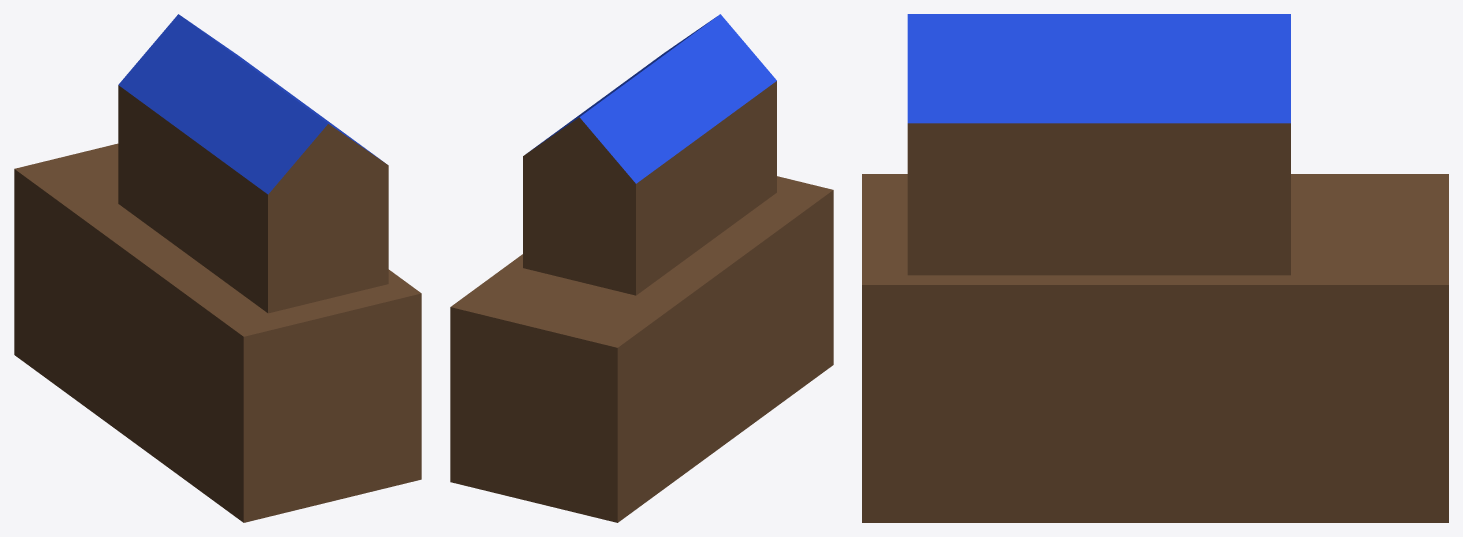
File: houseBig.fbx
3 views of the same model, side by side, from view 1: azimuth 30°, elevation 25°; view 2: azimuth 150°, elevation 25°; view 3: azimuth 270°, elevation 25° (orthographic). The views are drawn at different scales.
Visible parts, largest first — view 1: Big House; view 2: Big House; view 3: Big House.
Boxes of the visible parts, <box> form: Big House: <box>14,14,421,522</box>; Big House: <box>450,14,833,522</box>; Big House: <box>862,14,1448,522</box>.
Bounding box in the file's own units: 516 × 1001 × 1153.
